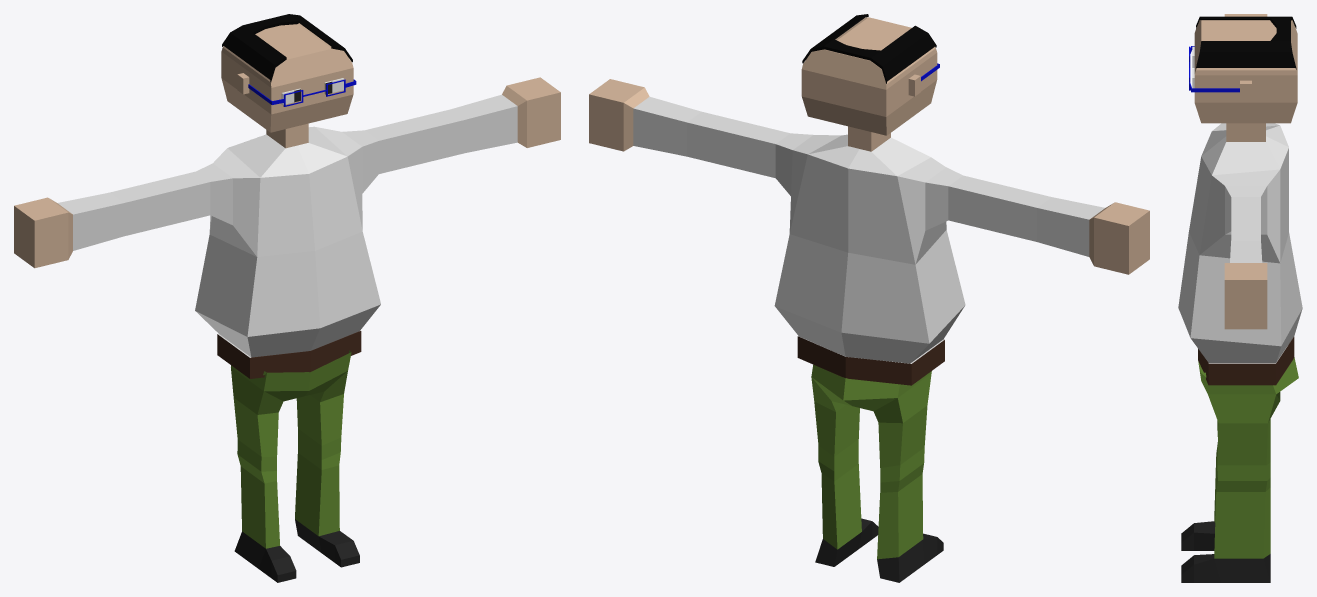
Rendered from darin.fbx.
3 views of the same model, side by side, from view 1: azimuth 30°, elevation 25°; view 2: azimuth 150°, elevation 25°; view 3: azimuth 270°, elevation 25° (orthographic). The views are drawn at different scales.
Parts seen in each view (by area): view 1: Cube; view 2: Cube; view 3: Cube, Cube.001.
Part boxes in pixels (x1,y1,x2,y2): Cube: (14,14,560,582); Cube: (589,14,1149,582); Cube: (1178,14,1302,582); Cube.001: (1189,46,1239,92).
Size of the model in its own units: 287 by 268 by 56.69.
4 materials, 1 textured.
